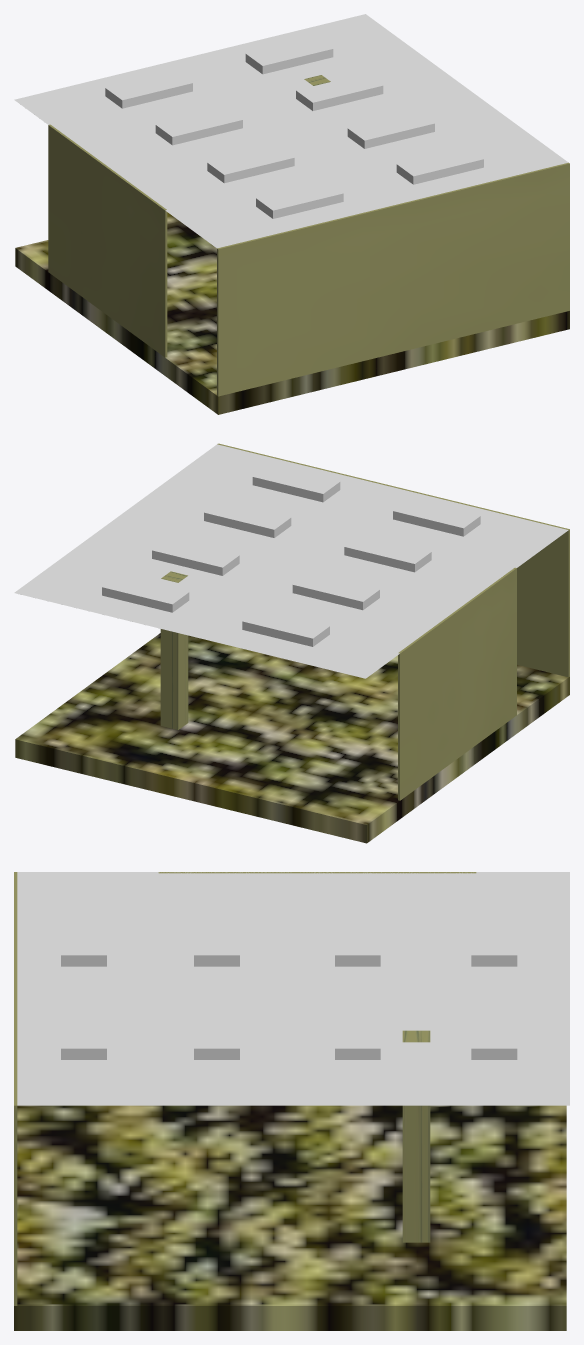
File: BackroomsLevelZero - 8.fbx
3 renders of one model, top to bottom at view 1: azimuth 30°, elevation 25°; view 2: azimuth 150°, elevation 25°; view 3: azimuth 270°, elevation 25°, orthographic. The views are drawn at different scales.
Parts seen in each view (by area): view 1: Floor.025, Wall.023, Floor.009, Wall.024, Cube.126, Cube.123, Cube.124, Cube.125, Cube.128, Cube.129, Cube.127, Cube.130; view 2: Floor.025, Floor.009, Wall.024, Wall.023, Cube.037, Cube.130, Cube.125, Cube.129, Cube.123, Cube.124, Cube.126, Cube.127 (+1 smaller); view 3: Floor.009, Floor.025, Cube.037, Cube.123, Cube.126, Cube.124, Cube.125, Cube.127, Cube.128, Cube.129, Cube.130, Wall.023 (+1 smaller).
Boxes of the visible parts, x1,y1,x2,y2 form: Floor.025: [14, 14, 568, 248]; Wall.023: [217, 162, 569, 396]; Floor.009: [15, 212, 569, 414]; Wall.024: [48, 124, 167, 357]; Cube.126: [245, 36, 333, 74]; Cube.123: [105, 71, 192, 108]; Cube.124: [155, 107, 242, 145]; Cube.125: [207, 145, 294, 183]; Cube.128: [347, 111, 434, 148]; Cube.129: [256, 181, 343, 218]; Cube.127: [296, 73, 383, 110]; Cube.130: [396, 147, 483, 184]; Floor.025: [14, 444, 568, 678]; Floor.009: [15, 633, 569, 843]; Wall.024: [398, 567, 516, 800]; Wall.023: [217, 443, 569, 677]; Cube.037: [160, 571, 188, 729]; Cube.130: [252, 464, 340, 502]; Cube.125: [344, 534, 431, 572]; Cube.129: [393, 499, 480, 536]; Cube.123: [242, 609, 329, 646]; Cube.124: [292, 572, 379, 610]; Cube.126: [102, 575, 189, 612]; Cube.127: [152, 538, 239, 575]; Floor.009: [14, 1105, 566, 1330]; Floor.025: [17, 872, 569, 1105]; Cube.037: [402, 1030, 430, 1242]; Cube.123: [471, 908, 517, 966]; Cube.126: [471, 1001, 517, 1059]; Cube.124: [335, 908, 380, 966]; Cube.125: [194, 908, 239, 966]; Cube.127: [335, 1001, 380, 1059]; Cube.128: [194, 1001, 239, 1059]; Cube.129: [61, 908, 106, 966]; Cube.130: [61, 1001, 106, 1059]; Wall.023: [14, 872, 17, 1305].
Bounding box in the file's own units: 2000 × 946 × 2012.
